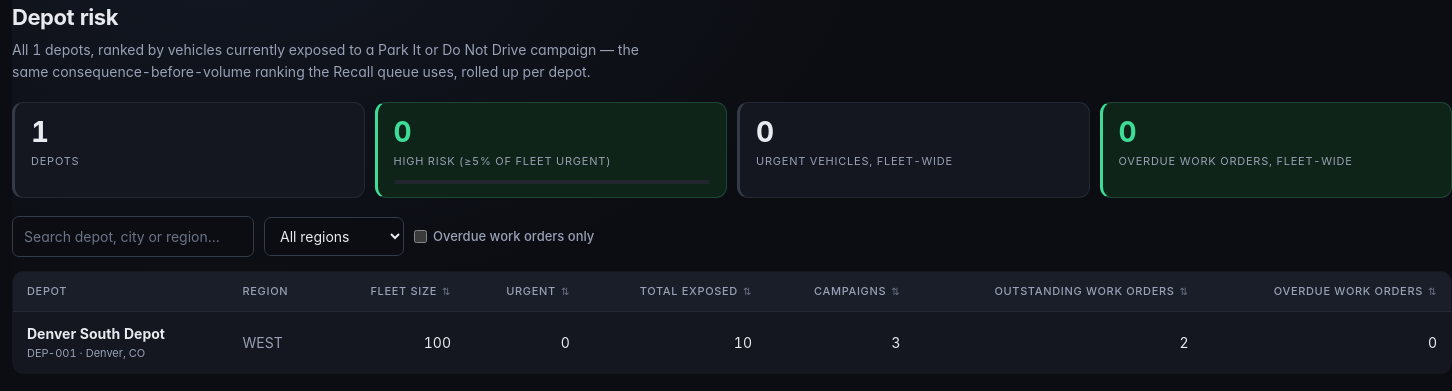
DepotRisk › shows the no-match message when a search excludes every depot
The image size is (1452, 391).
Expected: the text "Denver South Depot" is shown, x1=27 y1=325 x2=165 y2=342
Type "nomatch" into the search field named "Search depots" at (133, 237), box x1=12 y1=216 x2=254 y2=257
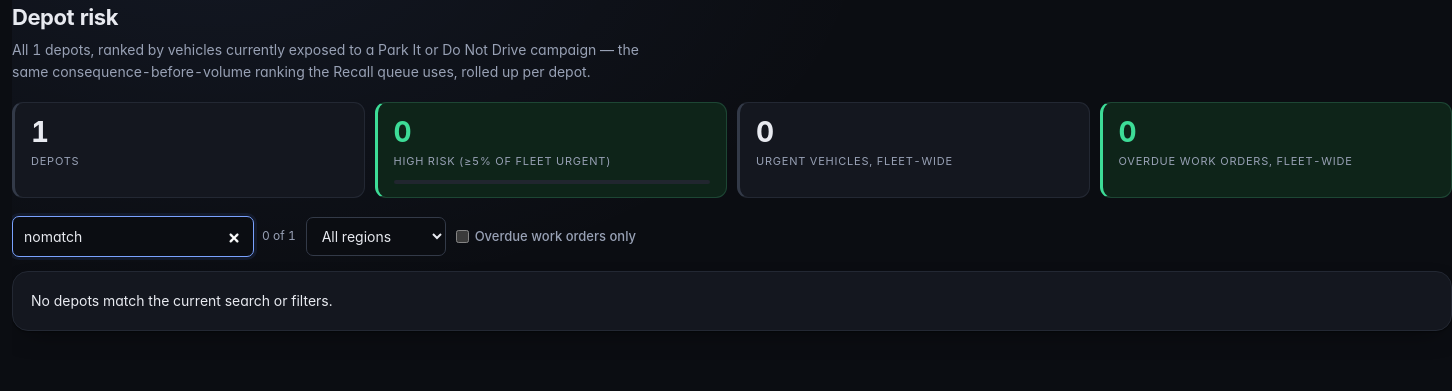
Expected: the text "No depots match the current search or filters." is shown, x1=12 y1=271 x2=1451 y2=331
